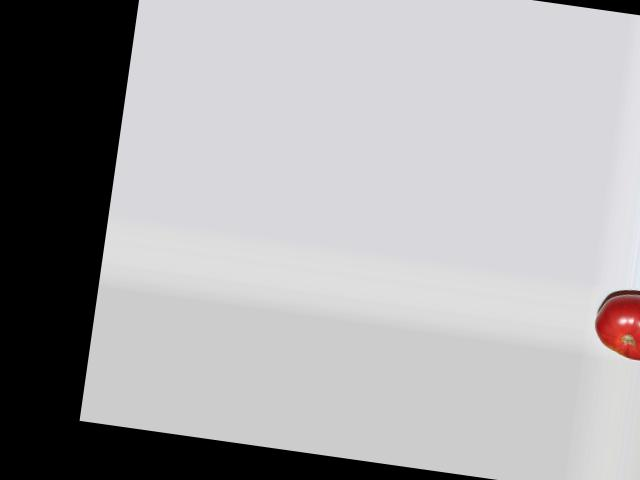tomato: (590, 290, 640, 364)
